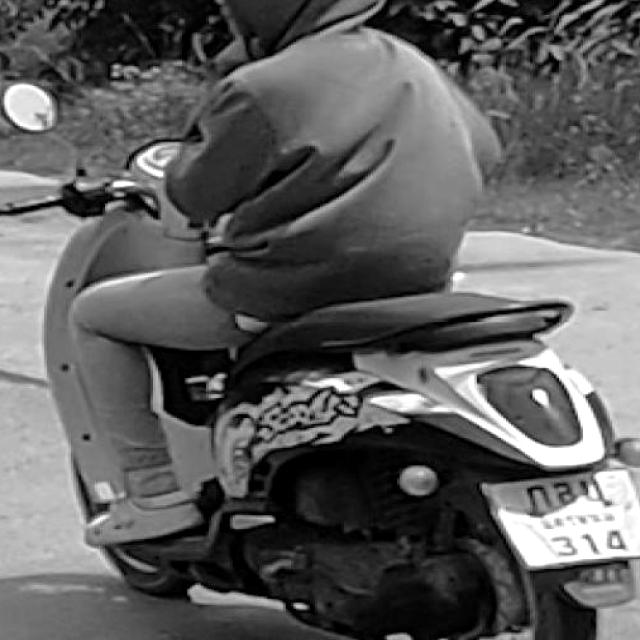letters: (522, 482, 559, 516), (578, 471, 602, 504), (554, 476, 576, 503), (601, 532, 620, 554), (579, 531, 597, 553), (558, 534, 570, 552)
license-plate: (481, 467, 640, 568)
province: (540, 509, 624, 526)
